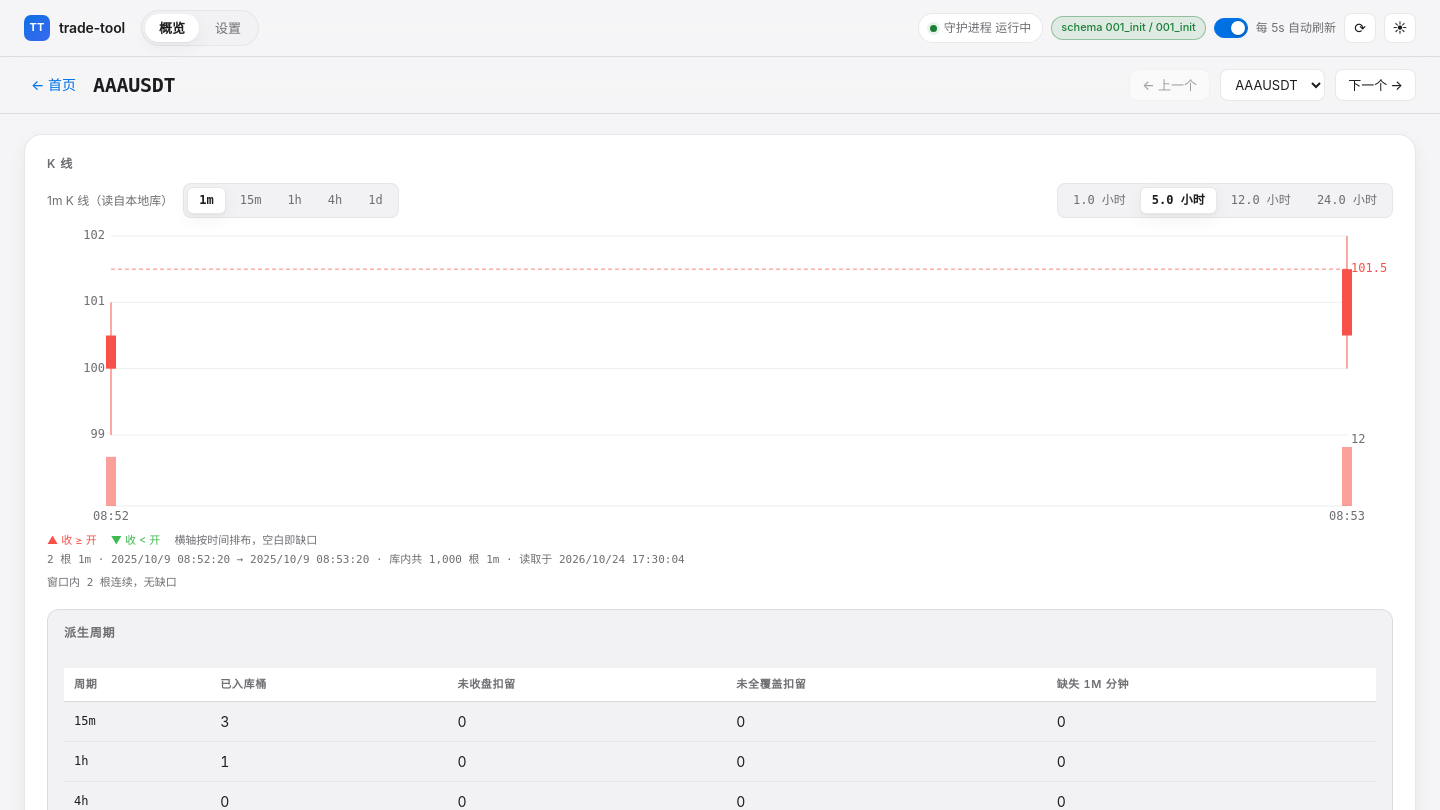
it: 详情页路由 › 从详情能回首页
Click the button titled "回到首页". click: (54, 85)
box: [24,70,83,100]
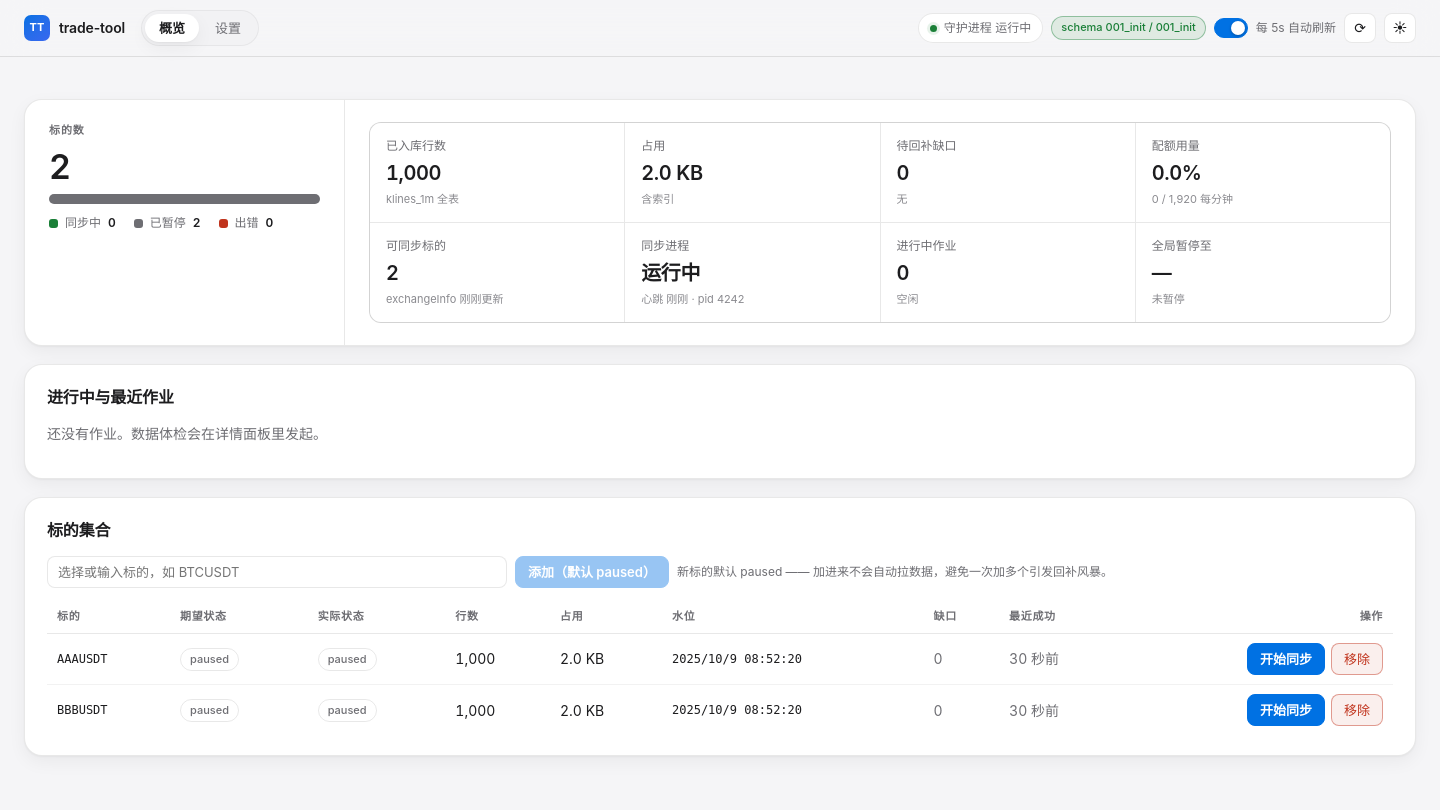
Result: the heading "标的集合" is shown at [47,520,110,540]
